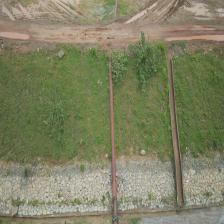rock toe: (0, 164, 113, 216), (117, 161, 175, 213), (182, 151, 224, 206)
slope drain: (167, 54, 184, 206)
